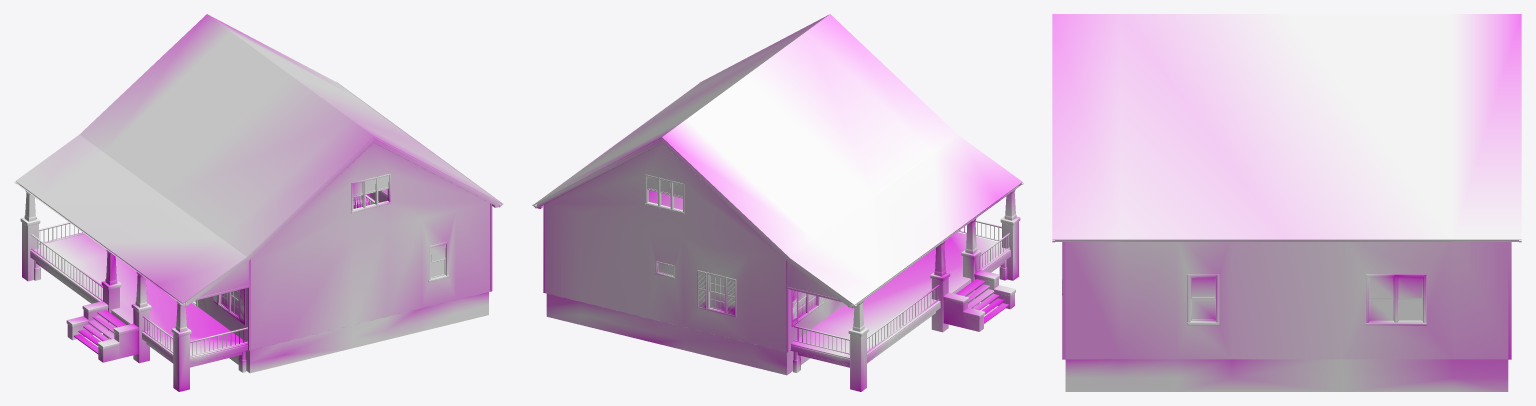
Rendered from SM_House_08.fbx.
The picture shows the model from 3 angles, left to right: view 1: azimuth 30°, elevation 25°; view 2: azimuth 150°, elevation 25°; view 3: azimuth 270°, elevation 25°; orthographic projection. The views are drawn at different scales.
Visible parts, largest first — view 1: SM_House_08_LOD1; view 2: SM_House_08_LOD1; view 3: SM_House_08_LOD1.
Boxes of the visible parts, x1=… form: SM_House_08_LOD1: x1=14, y1=14, x2=503, y2=391; SM_House_08_LOD1: x1=532, y1=14, x2=1023, y2=391; SM_House_08_LOD1: x1=1052, y1=14, x2=1521, y2=391.
Size of the model in its own units: 1464 by 828 by 1188.
